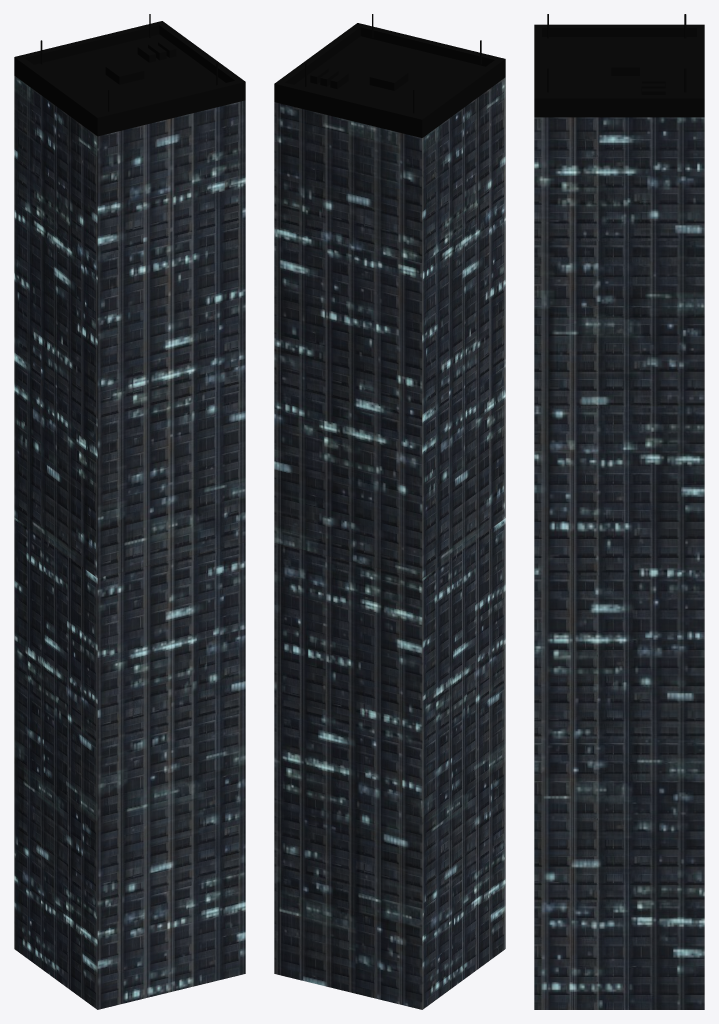
Rendered from dark-skyscraper.001_baked.glb.
3 renders of one model, left to right at view 1: azimuth 30°, elevation 25°; view 2: azimuth 150°, elevation 25°; view 3: azimuth 270°, elevation 25°, orthographic. The views are drawn at different scales.
Parts seen in each view (by area): view 1: dark-skyscraper.002; view 2: dark-skyscraper.002; view 3: dark-skyscraper.002.
Boxes of the visible parts, left/top/right/bottom form: dark-skyscraper.002: left=14, top=14, right=245, bottom=1009; dark-skyscraper.002: left=274, top=14, right=505, bottom=1009; dark-skyscraper.002: left=534, top=14, right=704, bottom=1009.
Bounding box in the file's own units: 76.03 × 446 × 74.04.
Materials: 1 (1 with a texture image).
